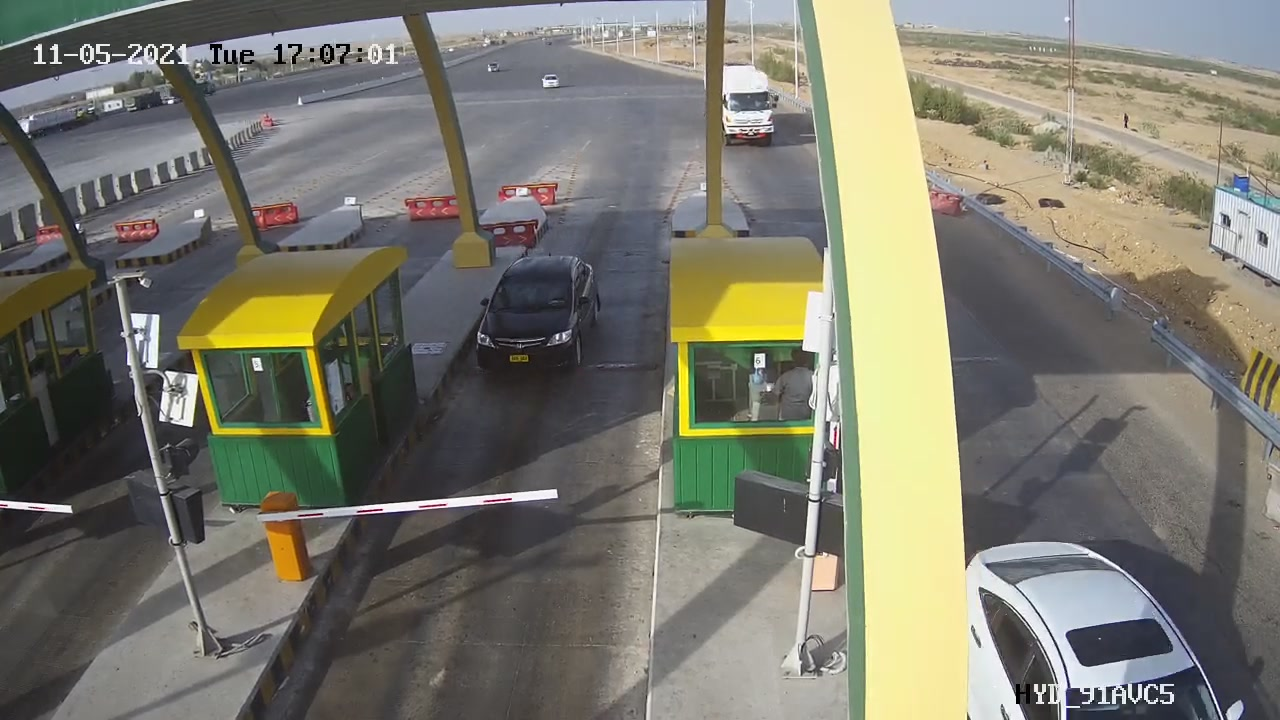F1: (463, 238, 618, 400)
